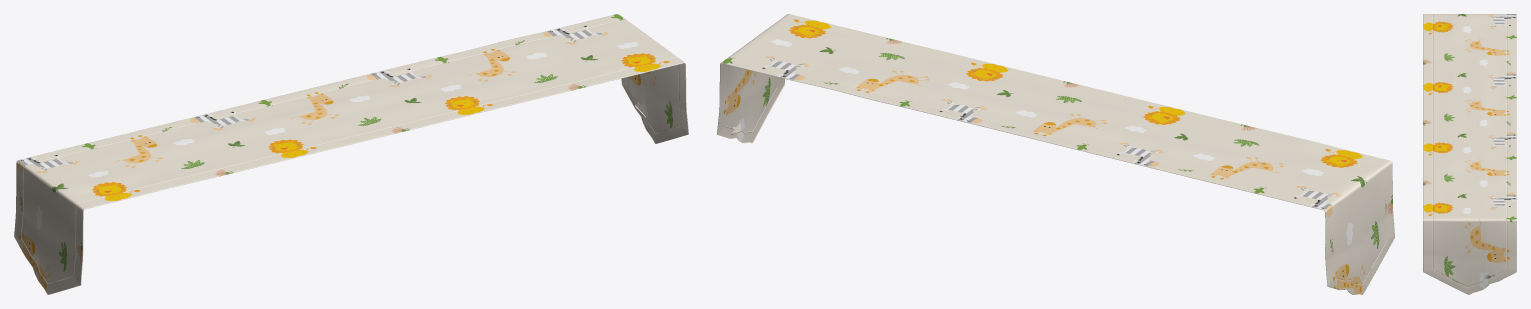
Rendered from zhuobu.FBX.
3 views of the same model, side by side, from view 1: azimuth 30°, elevation 25°; view 2: azimuth 150°, elevation 25°; view 3: azimuth 270°, elevation 25° (orthographic). The views are drawn at different scales.
Parts seen in each view (by area): view 1: zhuobu; view 2: zhuobu; view 3: zhuobu.
Part boxes in pixels (bbox=[...]): zhuobu: bbox=[14, 14, 688, 294]; zhuobu: bbox=[717, 14, 1394, 294]; zhuobu: bbox=[1423, 14, 1516, 294].
Bounding box in the file's own units: 182 × 31.37 × 34.66.
